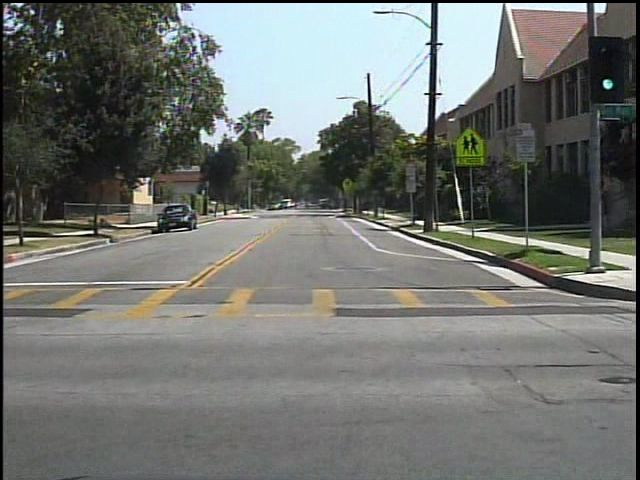person: (300, 196, 315, 214)
